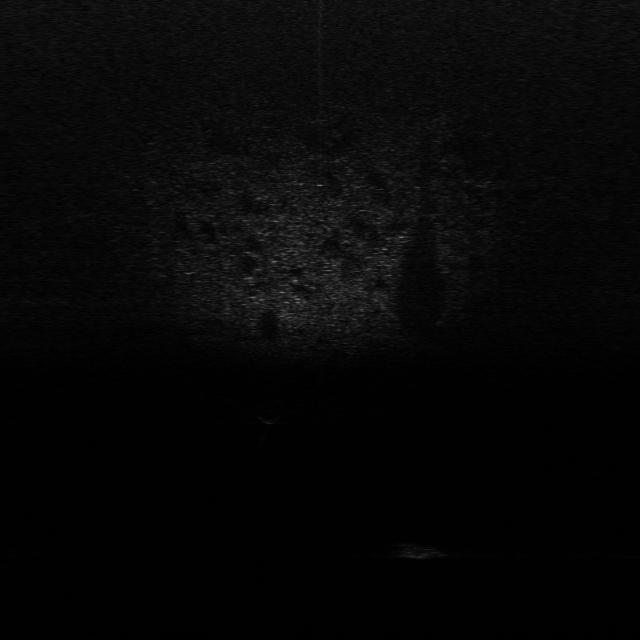ball: (256, 407, 286, 427)
metal bucket: (391, 541, 447, 561)
